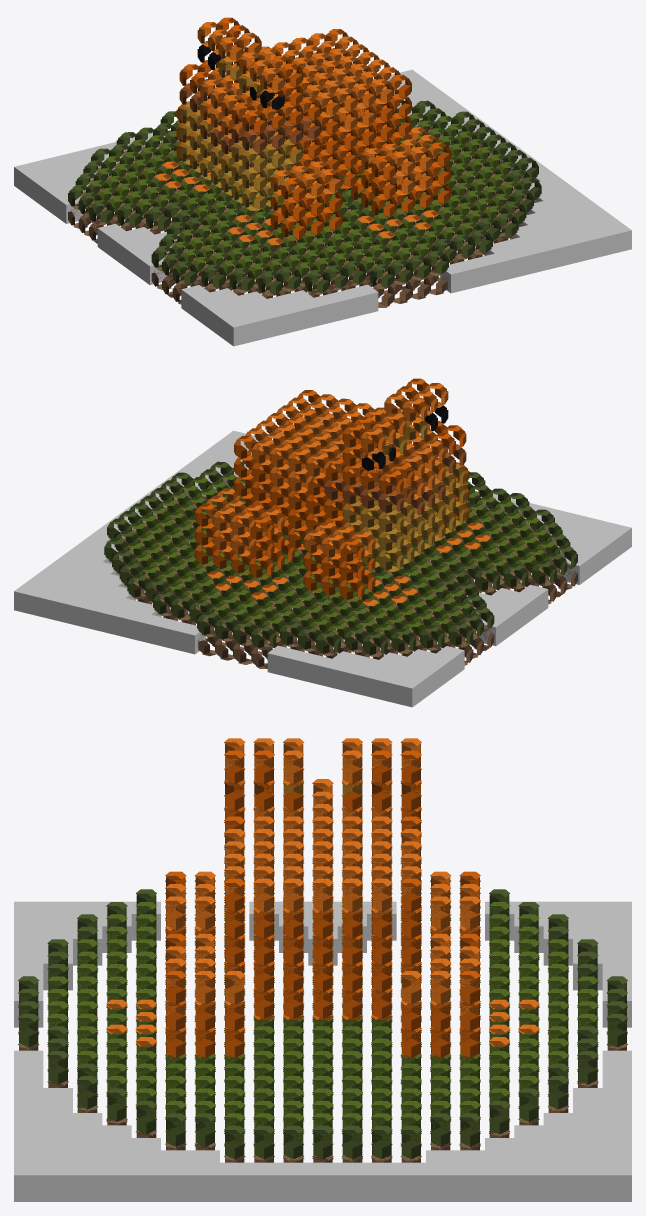
File: La Estatua de la Rana.obj
3 views of the same model, one above another, from view 1: azimuth 30°, elevation 25°; view 2: azimuth 150°, elevation 25°; view 3: azimuth 270°, elevation 25° (orthographic). The views are drawn at different scales.
Visible parts, largest first — view 1: block_00055, block_00893, block_01246, block_00371, block_01186, block_00086, block_00121, block_01078, block_01152, block_01218, block_00272, block_00470 (+8 smaller); view 2: block_00029, block_00805, block_01219, block_00273, block_01153, block_00056, block_00087, block_01041, block_01117, block_01187, block_00198, block_00372 (+10 smaller); view 3: block_01248, block_01250, block_01252, block_01255, block_01257, block_01259, block_01262, block_01264, block_01266, block_01247, block_01249, block_01251 (+26 smaller).
Part boxes in pixels (<box>): block_00055: <box>223,315,251,346</box>; block_00893: <box>440,262,468,293</box>; block_01246: <box>585,227,613,257</box>; block_00371: <box>332,289,360,319</box>; block_01186: <box>549,236,577,266</box>; block_00086: <box>241,311,269,341</box>; block_00121: <box>259,306,287,337</box>; block_01078: <box>495,249,523,279</box>; block_01152: <box>531,240,559,271</box>; block_01218: <box>568,231,595,262</box>; block_00272: <box>314,293,342,324</box>; block_00470: <box>350,284,378,315</box>; block_00029: <box>394,676,422,707</box>; block_00805: <box>177,623,205,654</box>; block_01219: <box>32,588,60,618</box>; block_00273: <box>285,650,313,680</box>; block_01153: <box>68,597,96,627</box>; block_00056: <box>376,672,404,702</box>; block_00087: <box>358,667,386,698</box>; block_01041: <box>122,610,150,640</box>; block_01117: <box>86,601,114,632</box>; block_01187: <box>50,592,77,623</box>; block_00198: <box>303,654,331,685</box>; block_00372: <box>267,645,295,676</box>; block_01248: <box>573,1162,602,1201</box>; block_01250: <box>514,1162,543,1201</box>; block_01252: <box>455,1162,484,1201</box>; block_01255: <box>367,1162,396,1201</box>; block_01257: <box>308,1162,337,1201</box>; block_01259: <box>249,1162,278,1201</box>; block_01262: <box>161,1162,190,1201</box>; block_01264: <box>102,1162,131,1201</box>; block_01266: <box>43,1162,72,1201</box>; block_01247: <box>602,1162,631,1201</box>; block_01249: <box>543,1162,572,1201</box>; block_01251: <box>485,1162,514,1201</box>.
Bounding box in the file's own units: 22 × 10 × 21.
